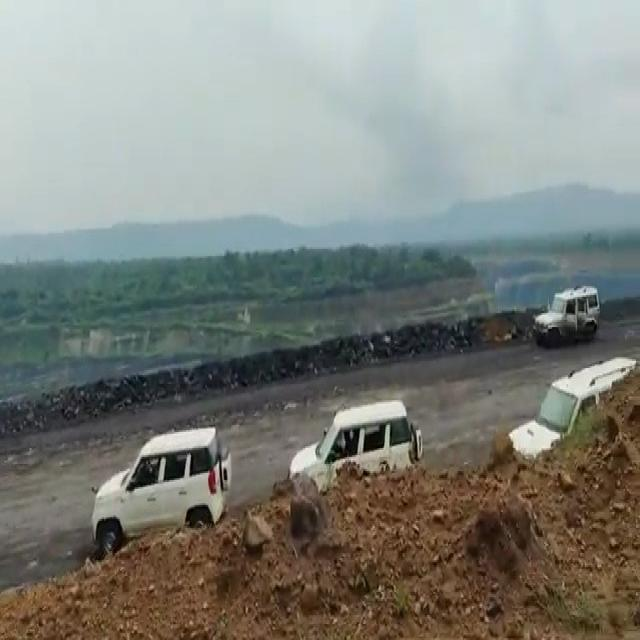light_vehicle: (76, 423, 224, 530), (290, 399, 423, 474), (504, 354, 636, 400), (531, 287, 603, 336)
